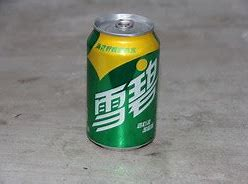Sprite: (85, 9, 160, 154)
